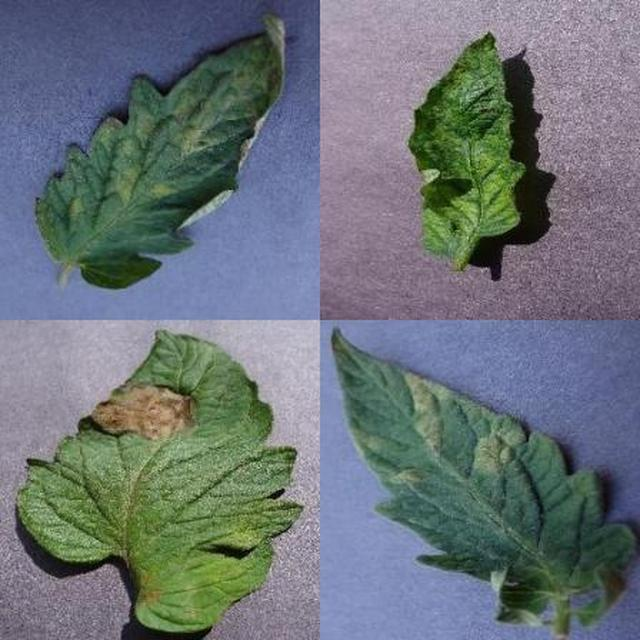Leaf Mold: (173, 204, 640, 640)
